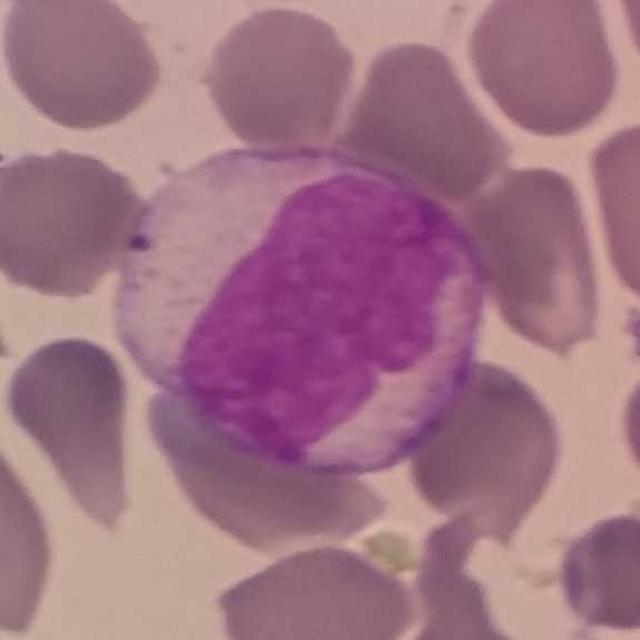Monocyte: (120, 135, 494, 481)
RBC: (140, 373, 390, 556), (401, 352, 571, 531), (1, 326, 140, 541), (336, 34, 512, 202), (466, 158, 610, 354), (197, 1, 361, 155), (0, 138, 151, 300), (461, 0, 624, 141), (0, 0, 168, 135), (209, 536, 421, 640), (0, 417, 63, 639), (582, 113, 640, 314), (552, 504, 640, 636), (375, 591, 552, 639), (613, 346, 640, 504), (565, 586, 639, 640), (604, 0, 639, 83)
